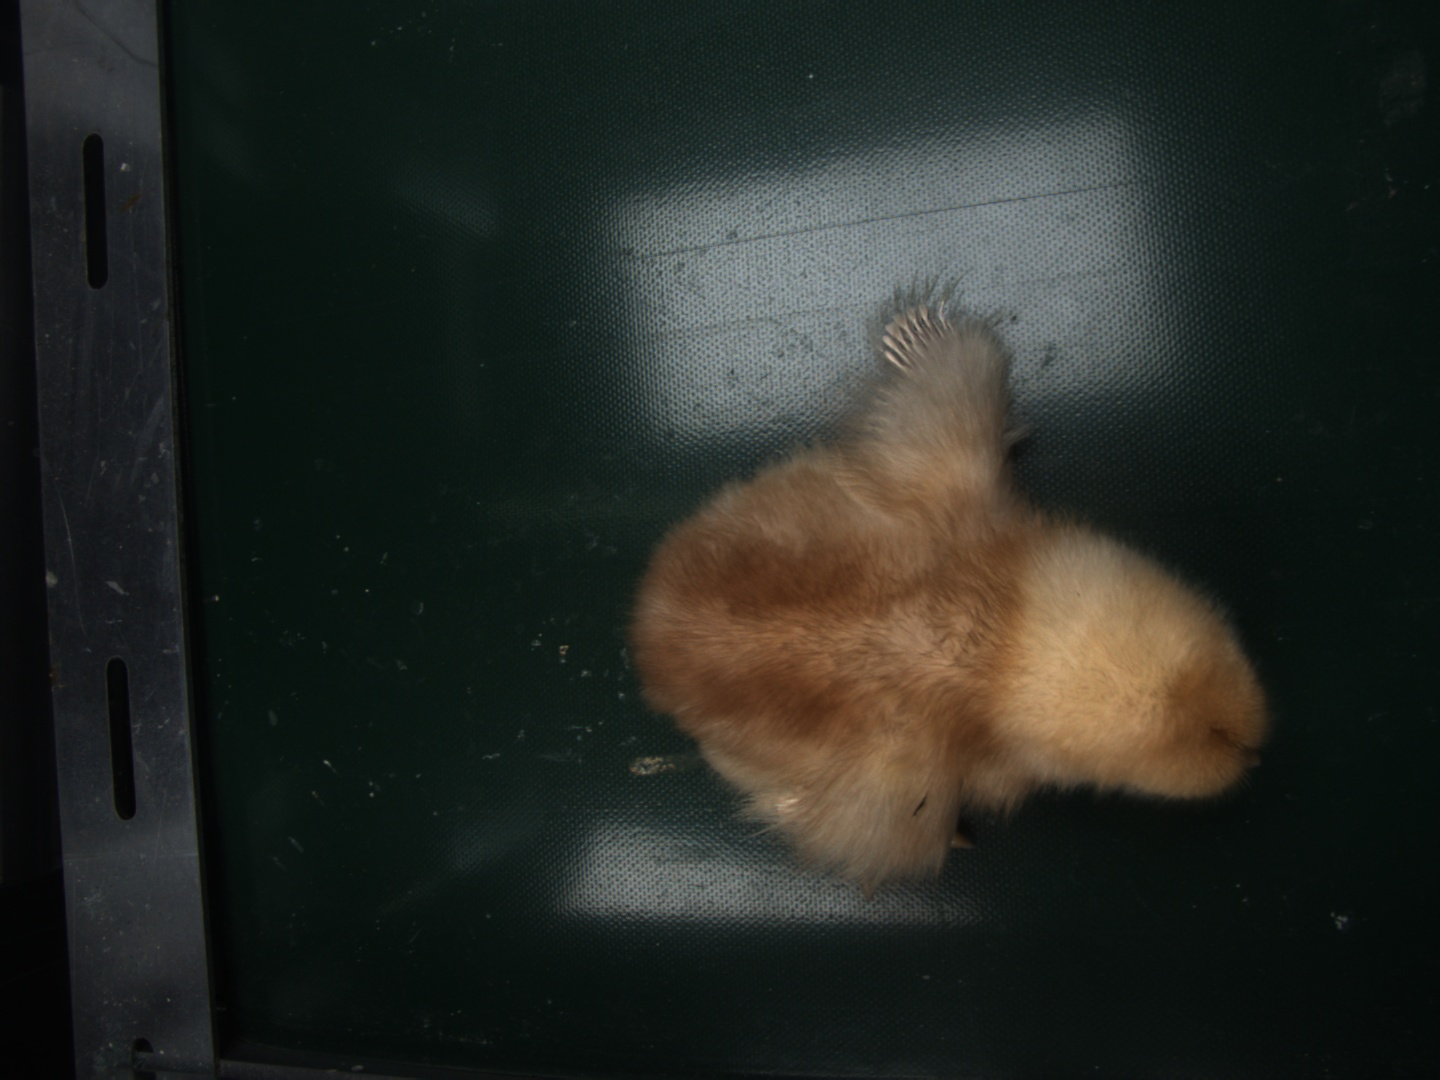female: (878, 298, 963, 377)
